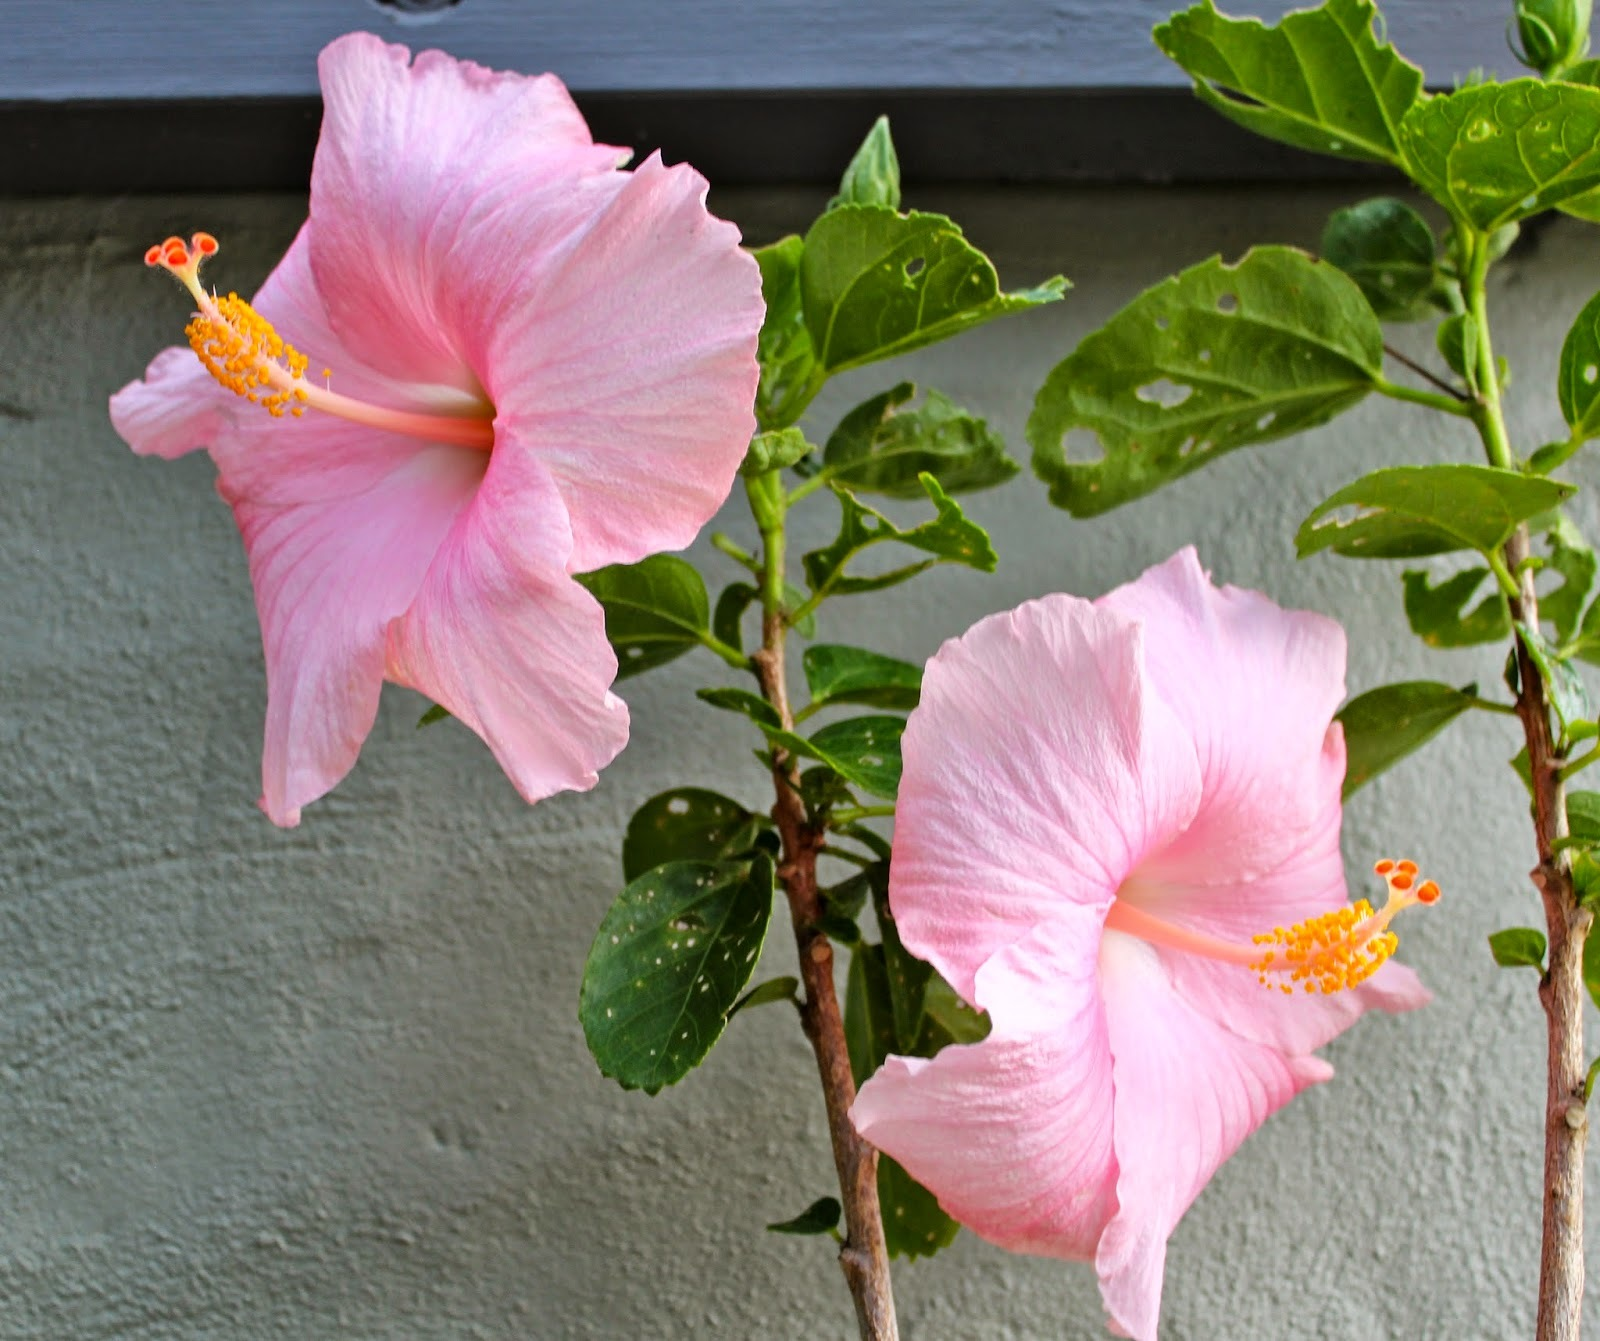Hibiscus-rosa-sinesis: (125, 31, 758, 797), (884, 557, 1439, 1334)
